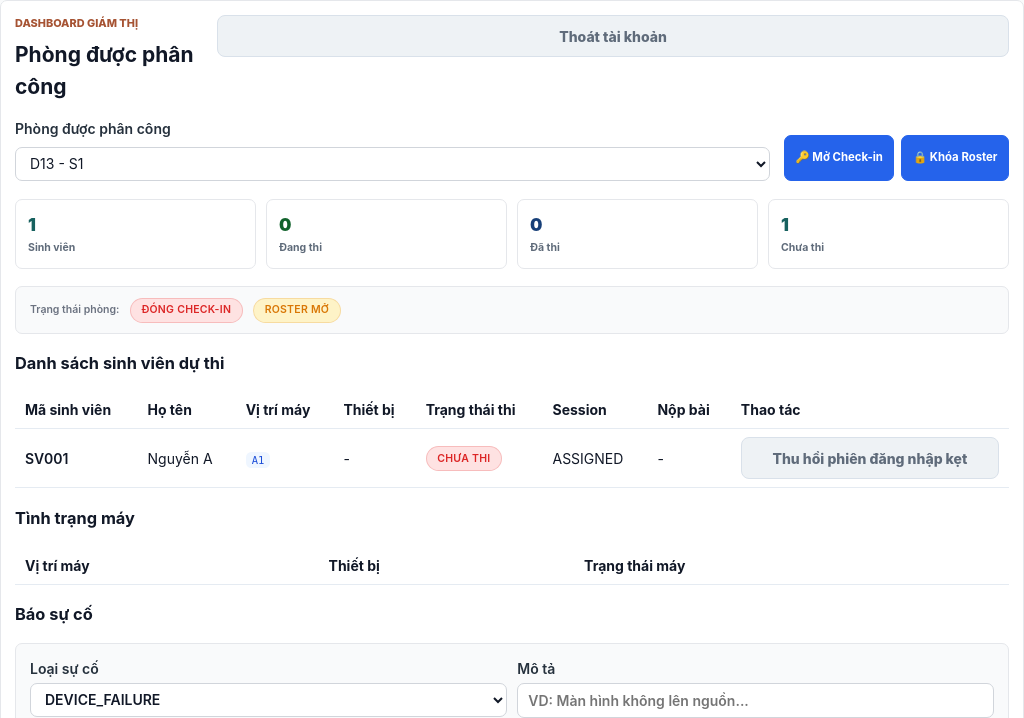
Test: ProctorDashboardPanel › revoke action shows generic error on network failure
expect the text "SV001" is shown: met, box [15,429,138,488]
Click the button "Thu hồi phiên đăng nhập kẹt": (870, 458) [741,437,999,479]
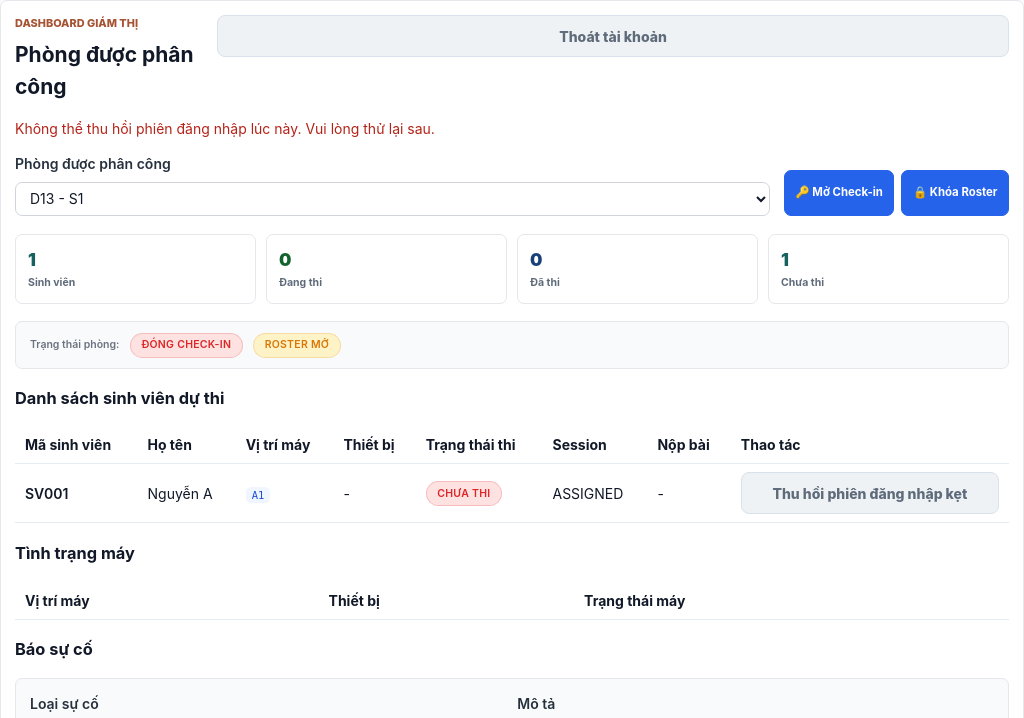
expect the text "Không thể thu hồi phiên đăng nhập lúc này. Vui lòng thử lại sau." is shown: met, box [15,120,435,137]
